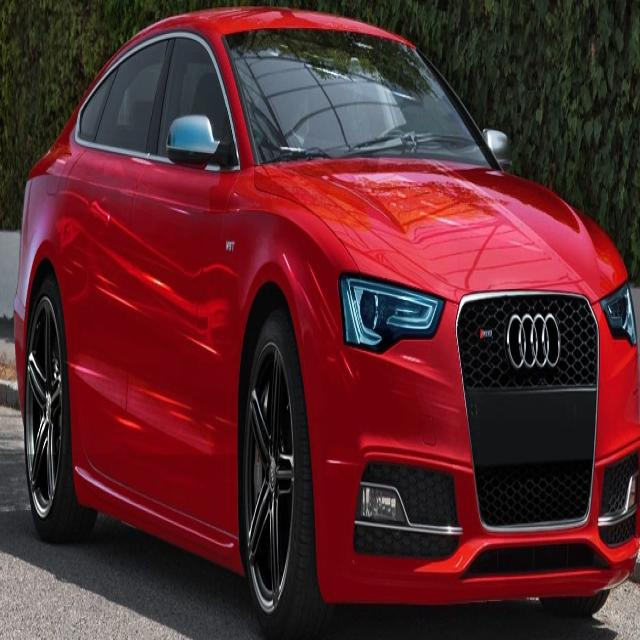red: (22, 5, 640, 640)
